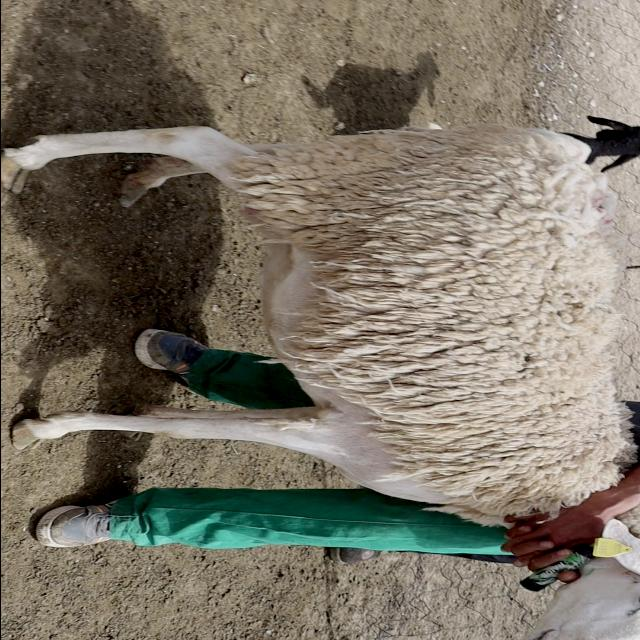Score_4: (1, 125, 629, 526)
